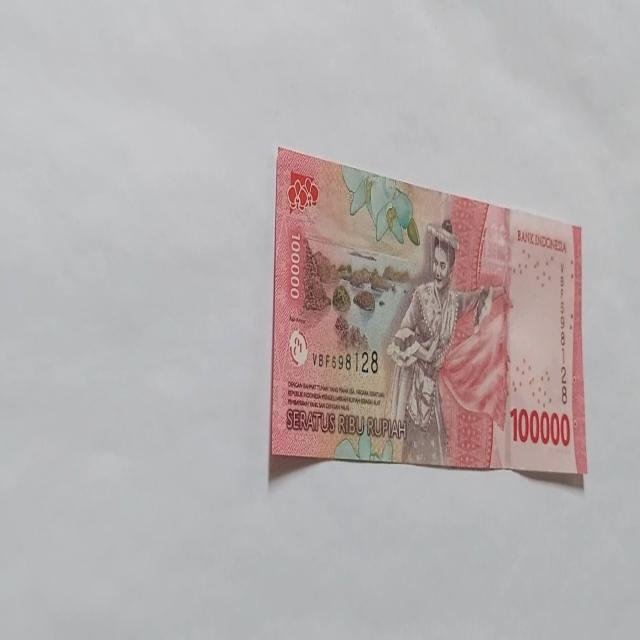seratus ribu rupiah: (268, 147, 588, 486), (383, 217, 509, 467)
